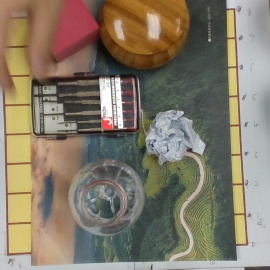bottle: (67, 158, 144, 235)
chess: (100, 1, 191, 69)
